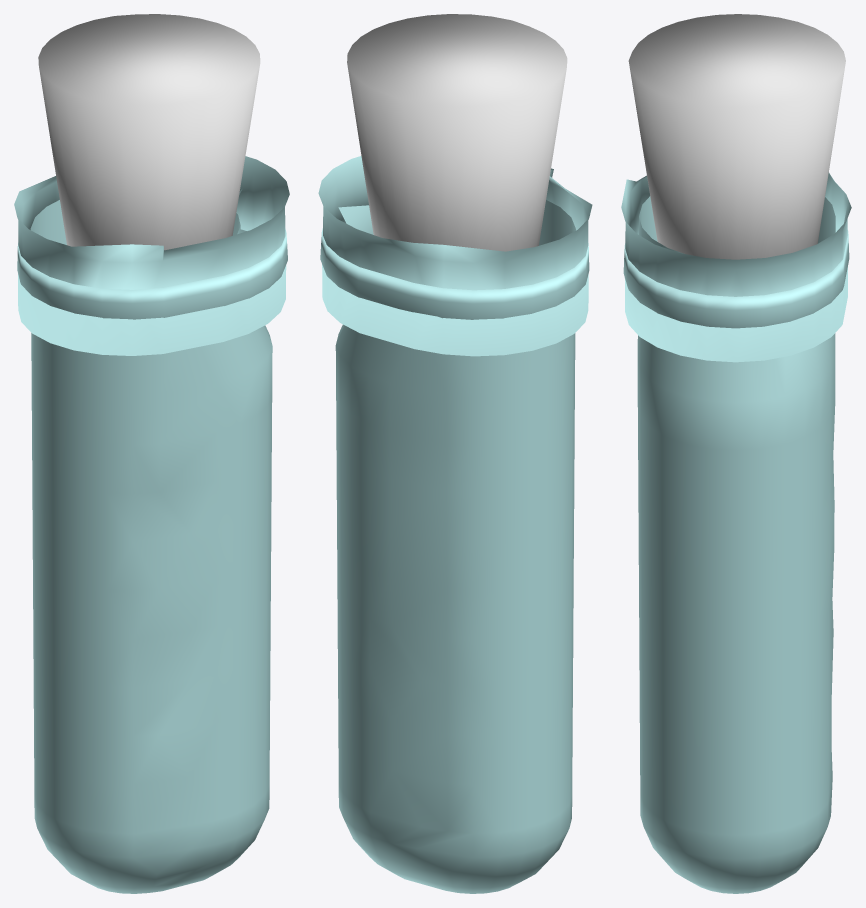
File: potiuneclidindruroz.fbx
The picture shows the model from 3 angles, left to right: view 1: azimuth 30°, elevation 25°; view 2: azimuth 150°, elevation 25°; view 3: azimuth 270°, elevation 25°; orthographic projection.
Visible parts, largest first — view 1: Sphere.004, Cylinder; view 2: Sphere.004, Cylinder; view 3: Sphere.004, Cylinder.
Boxes of the visible parts, x1,y1,x2,y2 form: Sphere.004: (14, 156, 289, 893); Cylinder: (38, 14, 260, 250); Sphere.004: (318, 156, 592, 893); Cylinder: (347, 14, 567, 251); Sphere.004: (621, 172, 851, 893); Cylinder: (628, 14, 845, 259).
Size of the model in its own units: 323 by 1030 by 264.
